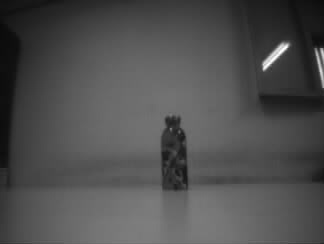Bottle: (159, 114, 188, 191)
